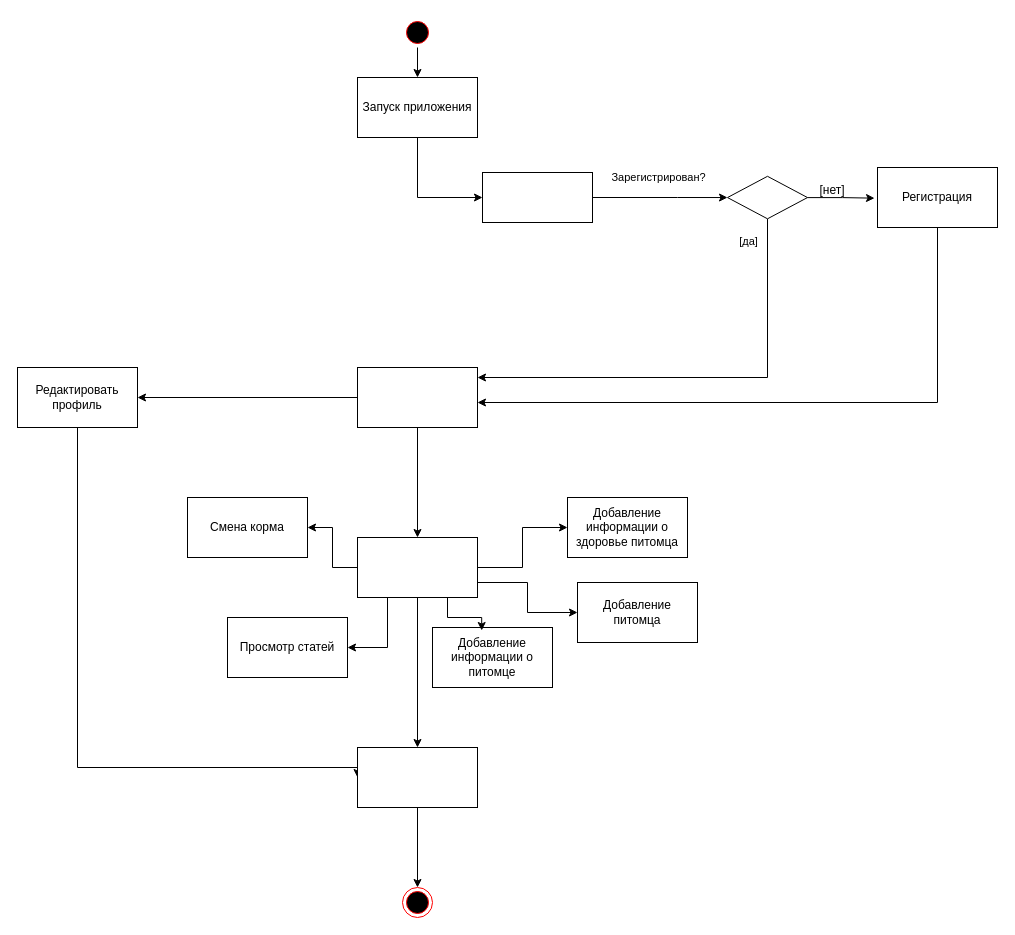
This 1015x935 diagram has some shape labels left out. The shapes that lost their labels are listed below. From the top down, each one's box as (x1, y1, x2, y2) in pixels, then its label:
(482, 172, 592, 222): Войти в аккаунт
(356, 366, 478, 428): Вход в аккаунт
(356, 536, 478, 598): Аккаунт пользователя
(356, 746, 478, 808): Выйти из приложения
